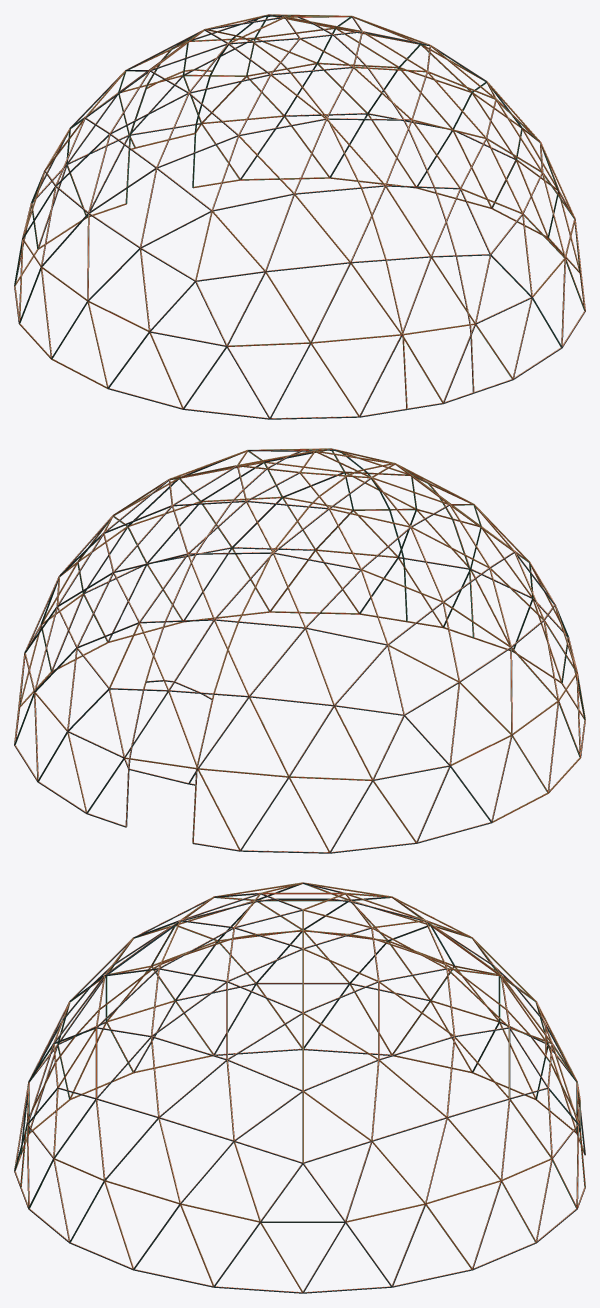
Rendered from SM_MP_Flow_DomeRibs.fbx.
3 views of the same model, one above another, from view 1: azimuth 30°, elevation 25°; view 2: azimuth 150°, elevation 25°; view 3: azimuth 270°, elevation 25° (orthographic).
Visible parts, largest first — view 1: SM_MP_Flow_DomeRibs; view 2: SM_MP_Flow_DomeRibs; view 3: SM_MP_Flow_DomeRibs.
Part boxes in pixels (x1=…): SM_MP_Flow_DomeRibs: x1=14, y1=14, x2=585, y2=419; SM_MP_Flow_DomeRibs: x1=14, y1=448, x2=585, y2=853; SM_MP_Flow_DomeRibs: x1=14, y1=882, x2=585, y2=1293.
Bounding box in the file's own units: 3811 × 3771 × 1911.
1 material, 1 textured.
